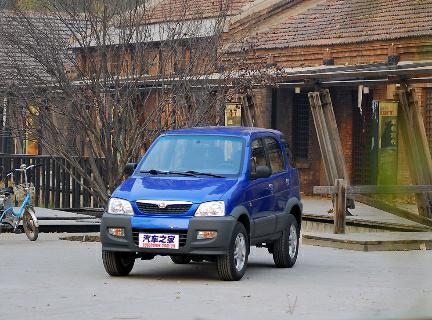众泰-2008: (95, 121, 310, 284)
